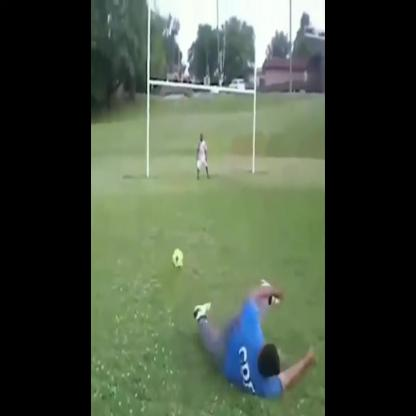Fall_Down: (191, 283, 318, 400)
